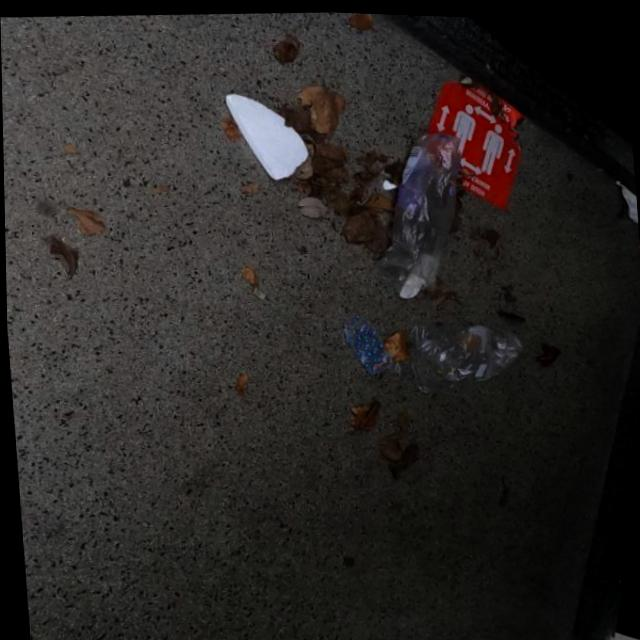Paper: (615, 172, 637, 219)
Plastic: (342, 308, 400, 375)
